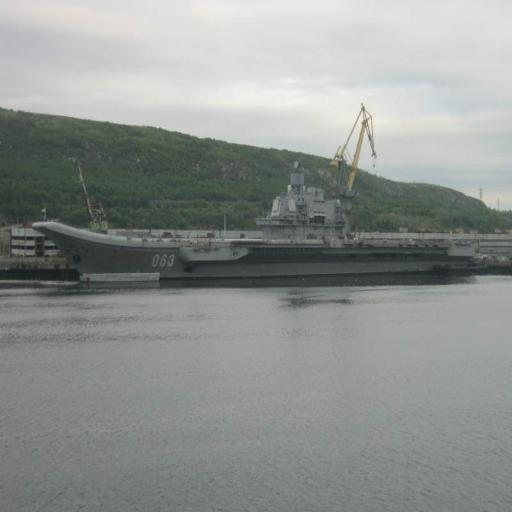Portanaves: (31, 160, 493, 296)
